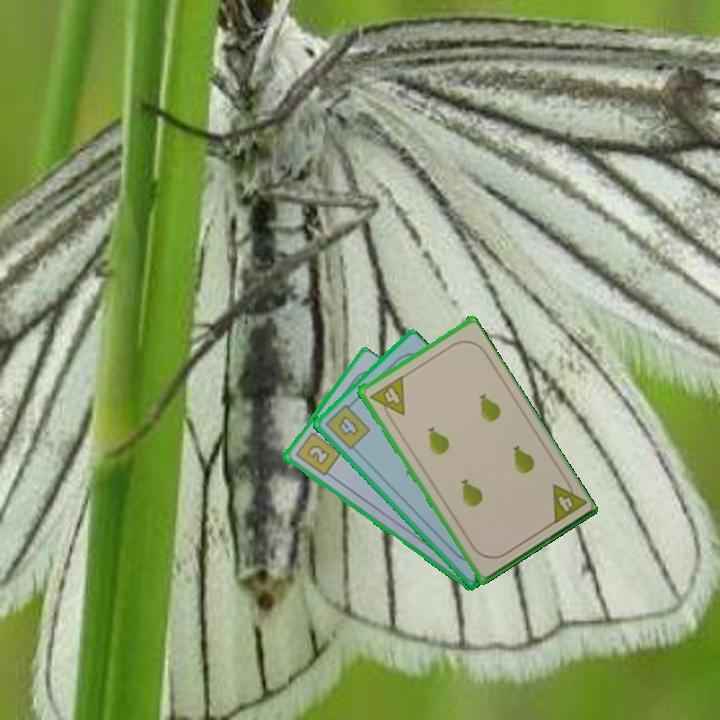2b: (291, 425, 343, 479)
4b: (321, 398, 373, 452)
4p: (365, 373, 408, 424), (548, 473, 588, 527)
